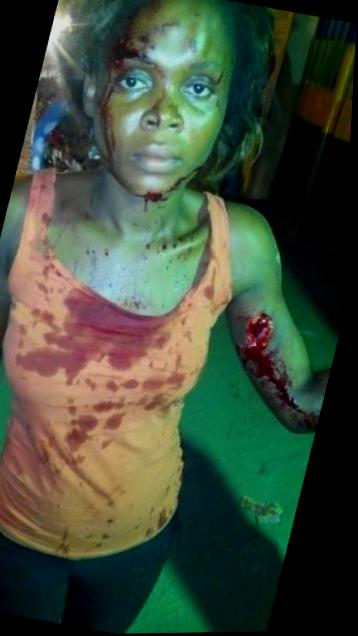Fire: (23, 290, 194, 469), (101, 23, 179, 174), (242, 313, 324, 434), (193, 194, 235, 306), (136, 169, 200, 210)
